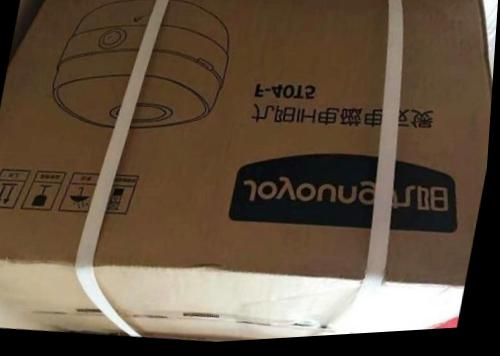cardboard: (0, 0, 495, 353)
